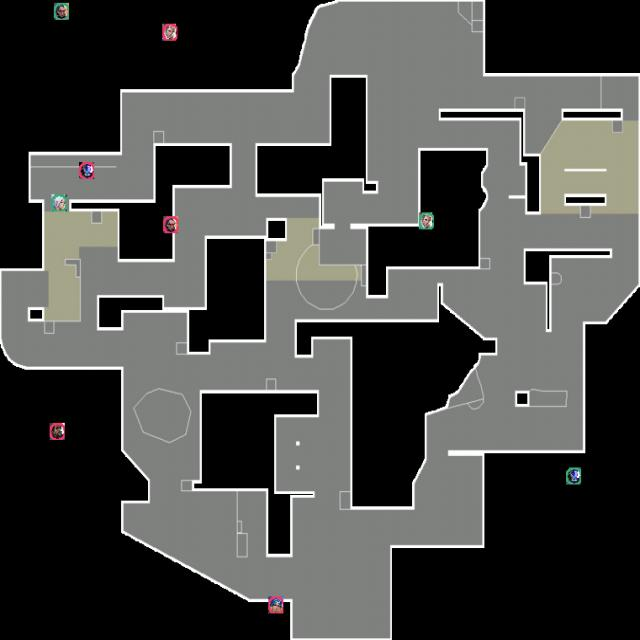atk_harbor: (50, 423, 64, 440)
atk_kayo: (79, 162, 94, 179)
atk_neon: (268, 596, 284, 614)
atk_reyna: (163, 216, 178, 233)
atk_sova: (162, 24, 178, 40)
def_jett: (52, 194, 66, 212)
def_kayo: (566, 468, 581, 484)
def_reyna: (54, 3, 69, 20)
def_sova: (419, 212, 434, 230)
